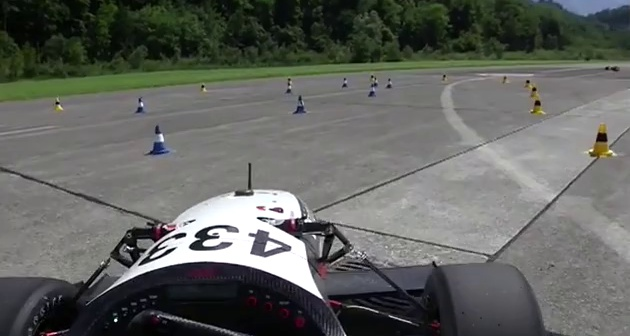Cone: (584, 121, 618, 158), (149, 124, 172, 156), (291, 94, 312, 115), (530, 93, 548, 116), (50, 95, 67, 112), (135, 95, 150, 114), (529, 82, 542, 99), (367, 83, 380, 99)
